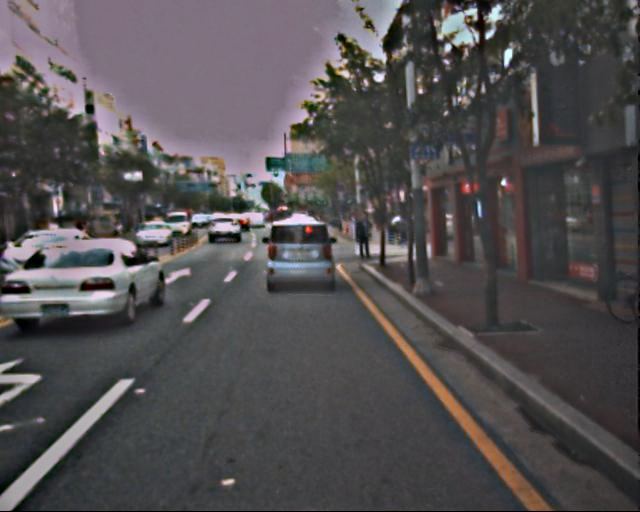person: (355, 211, 375, 260), (387, 216, 411, 243)
